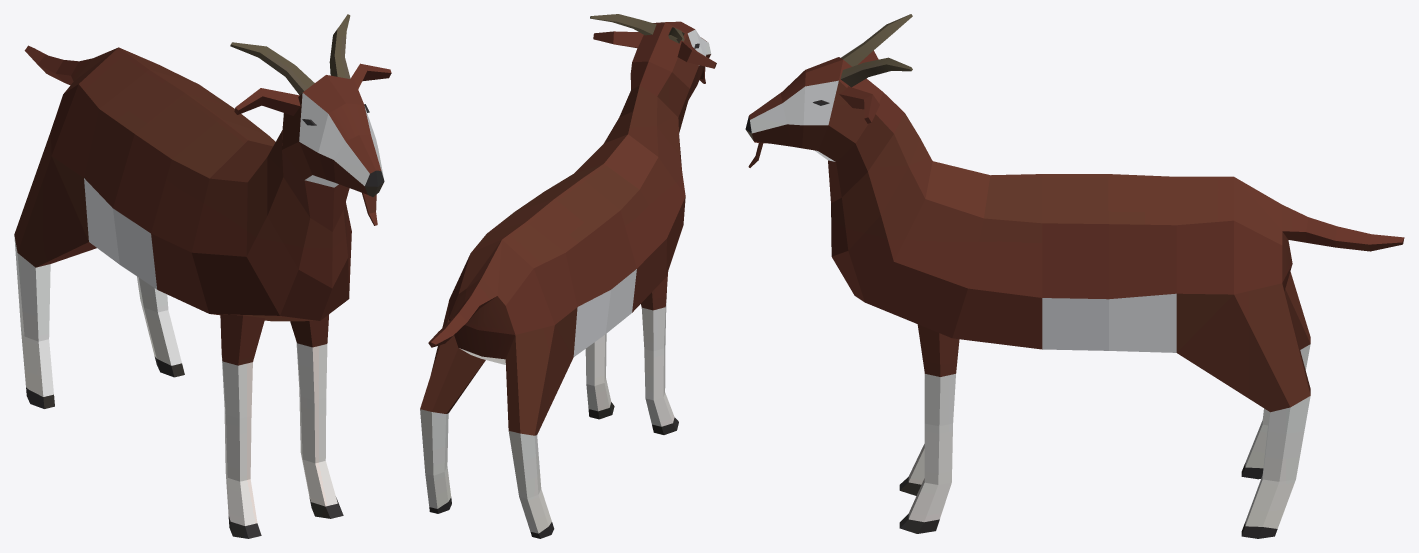
Rendered from goat2.glb.
3 renders of one model, left to right at view 1: azimuth 30°, elevation 25°; view 2: azimuth 150°, elevation 25°; view 3: azimuth 270°, elevation 25°, orthographic. The views are drawn at different scales.
Parts seen in each view (by area): view 1: Geo_Goat; view 2: Geo_Goat; view 3: Geo_Goat.
Part boxes in pixels (left/top/right/bottom): Geo_Goat: left=14, top=14, right=391, bottom=538; Geo_Goat: left=420, top=14, right=716, bottom=538; Geo_Goat: left=745, top=14, right=1404, bottom=538.
Bounding box in the file's own units: 51.83 × 159 × 203.
1 material, 1 textured.
